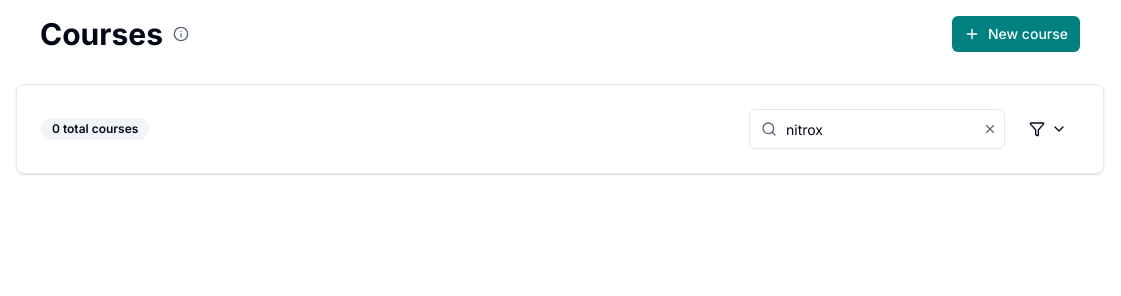
Scenario: CoursesPageFrame › opens the filters alone on the funnel, beside a box it leaves alone
Click the button named "Filter courses" at (1048, 129), box [1017, 111, 1079, 147]
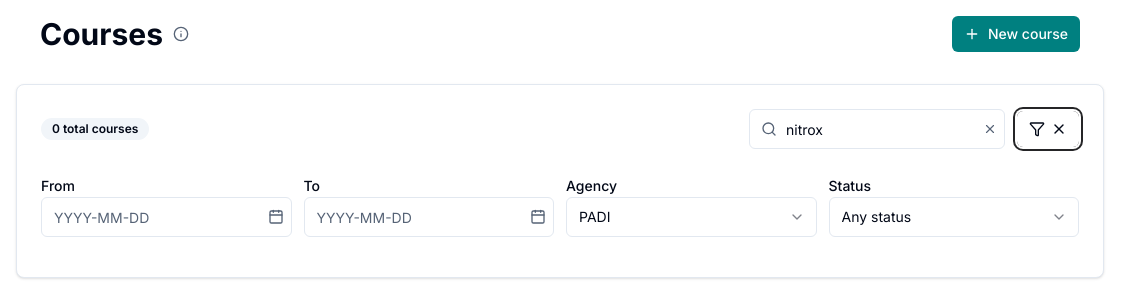
Now the dropdown labelled "Agency" is shown, box [566, 197, 816, 237]
Click the button named "Close filters, clearing them" at (1048, 129), box [1017, 111, 1079, 147]
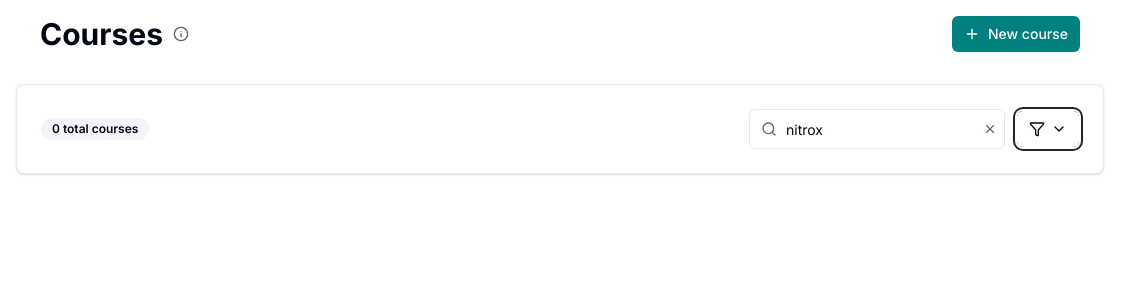
Now the label labelled "Agency" is gone
